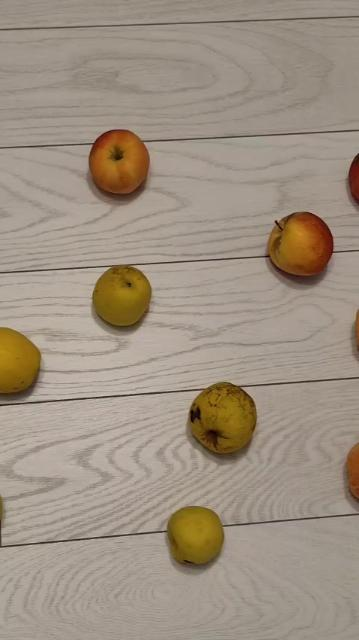apple_green: (188, 381, 257, 453), (91, 263, 152, 326), (166, 504, 225, 565), (0, 327, 42, 393)
apple_red: (268, 211, 334, 275), (87, 128, 150, 194), (348, 152, 359, 203)
